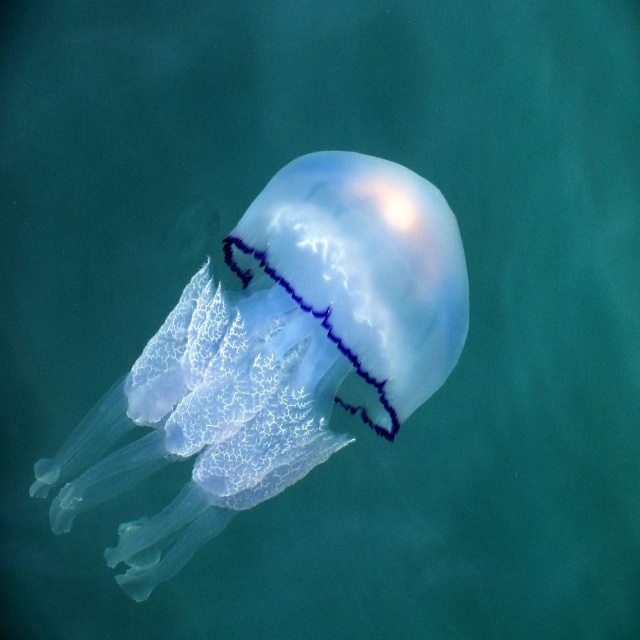Jellyfish: (29, 150, 470, 602)
